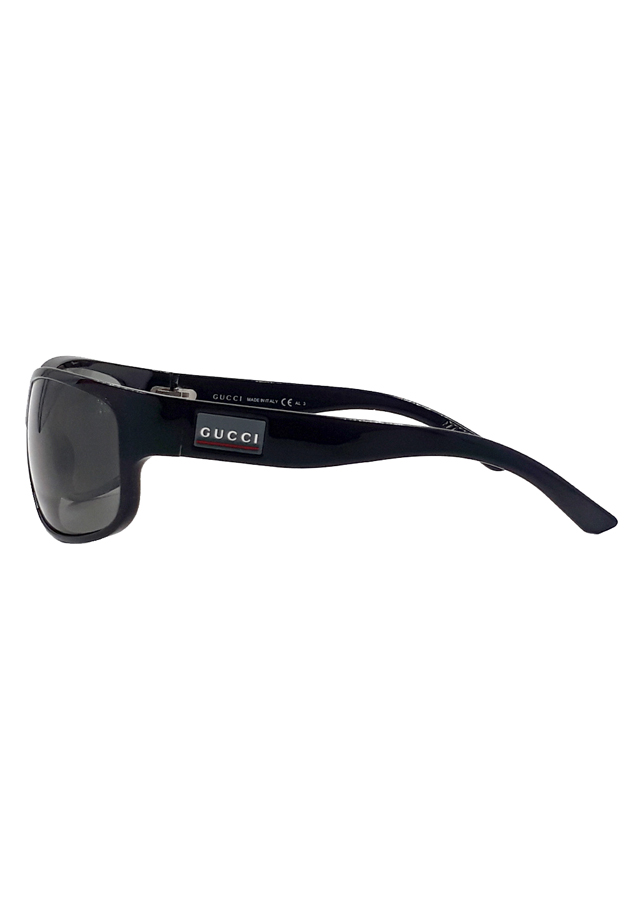Gucci: (190, 411, 273, 459), (207, 386, 247, 409)
